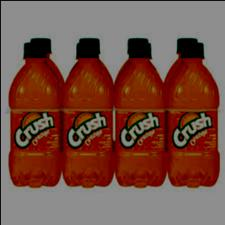Plastic: (161, 36, 222, 188), (59, 33, 116, 191), (113, 39, 169, 189), (9, 33, 60, 190)
